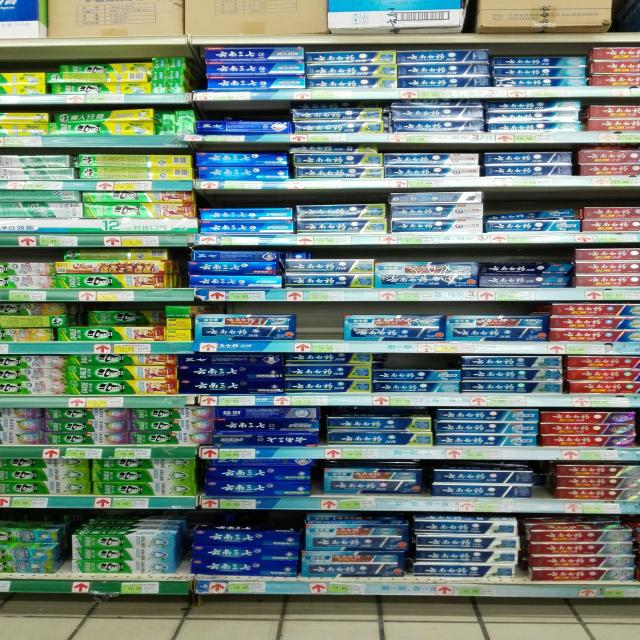empty: (286, 303, 347, 348)
